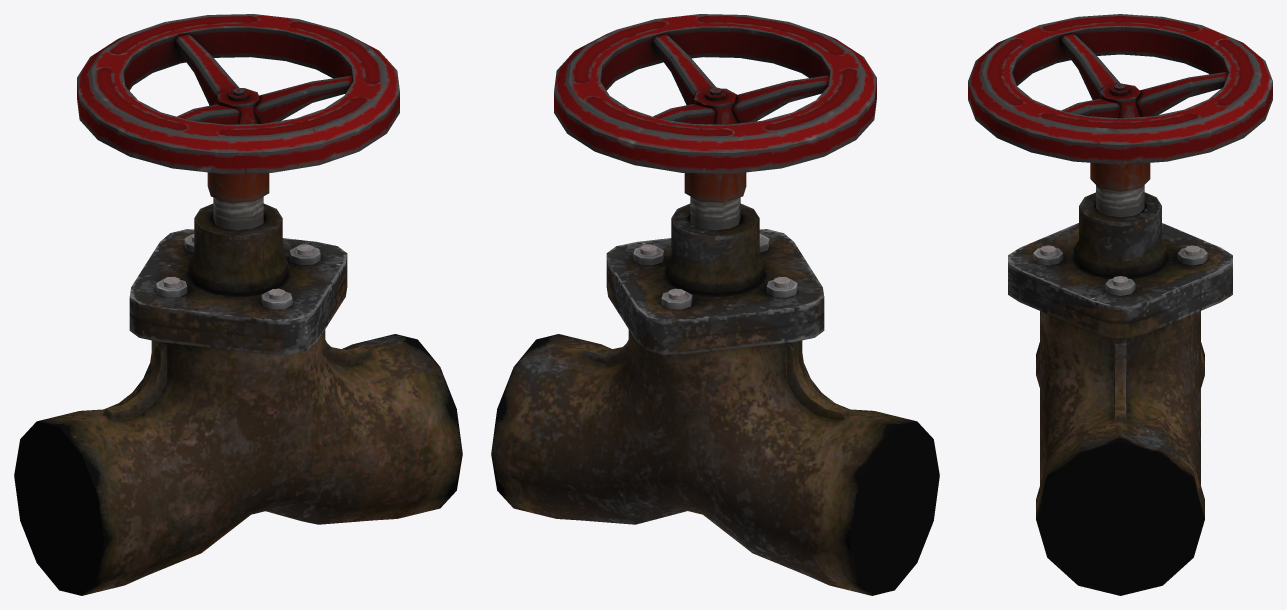
The model's file is NM_BigTube_Valve_02.fbx.
3 views of the same model, side by side, from view 1: azimuth 30°, elevation 25°; view 2: azimuth 150°, elevation 25°; view 3: azimuth 270°, elevation 25° (orthographic). The views are drawn at different scales.
Parts seen in each view (by area): view 1: BigTube_07_low003, Detail_04_low003; view 2: BigTube_07_low003, Detail_04_low003; view 3: BigTube_07_low003, Detail_04_low003.
Part boxes in pixels (x1=…): BigTube_07_low003: x1=14, y1=203, x2=462, y2=595; Detail_04_low003: x1=77, y1=14, x2=399, y2=230; BigTube_07_low003: x1=491, y1=203, x2=939, y2=595; Detail_04_low003: x1=554, y1=14, x2=876, y2=230; BigTube_07_low003: x1=1008, y1=192, x2=1232, y2=595; Detail_04_low003: x1=968, y1=14, x2=1272, y2=217.
Bounding box in the file's own units: 70.07 × 87.9 × 54.98.
